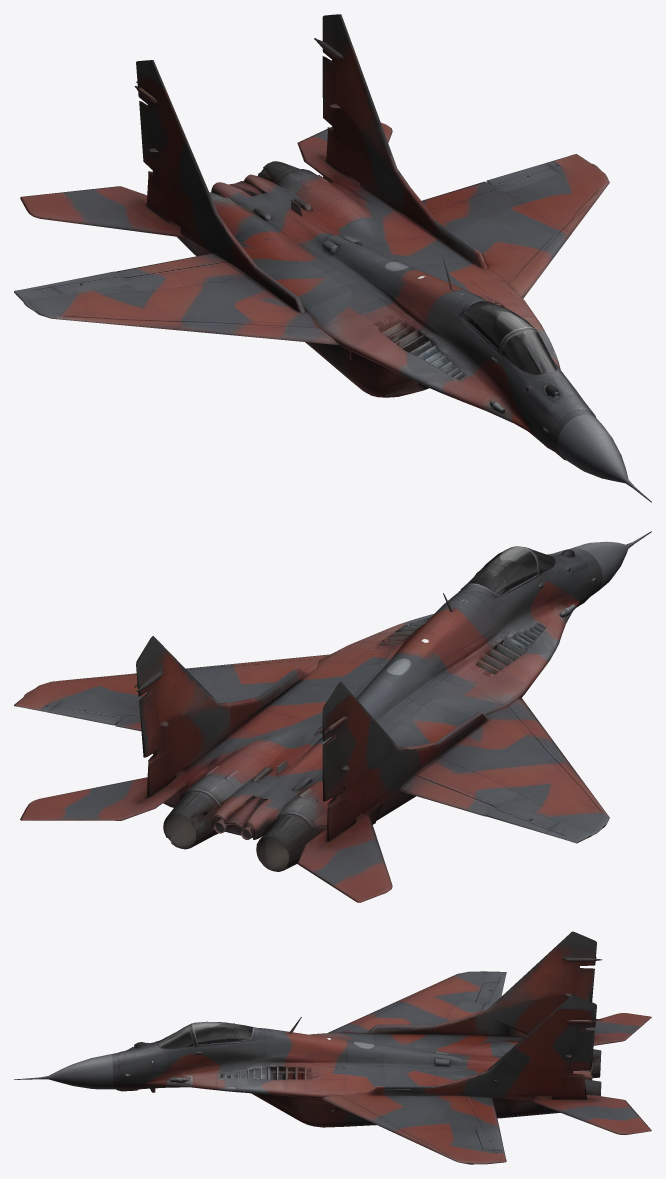
File: enemy.glb
The picture shows the model from 3 angles, top to bottom: view 1: azimuth 30°, elevation 25°; view 2: azimuth 150°, elevation 25°; view 3: azimuth 270°, elevation 25°; orthographic projection. The views are drawn at different scales.
Parts seen in each view (by area): view 1: tripo_node_4a5332e8; view 2: tripo_node_4a5332e8; view 3: tripo_node_4a5332e8.
Part boxes in pixels (x1,y1,x2,y2): tripo_node_4a5332e8: (14, 14, 651, 502); tripo_node_4a5332e8: (14, 531, 651, 902); tripo_node_4a5332e8: (14, 931, 651, 1164).
Size of the model in its own units: 0.7124 by 0.2651 by 0.9995.
1 material, 1 textured.
